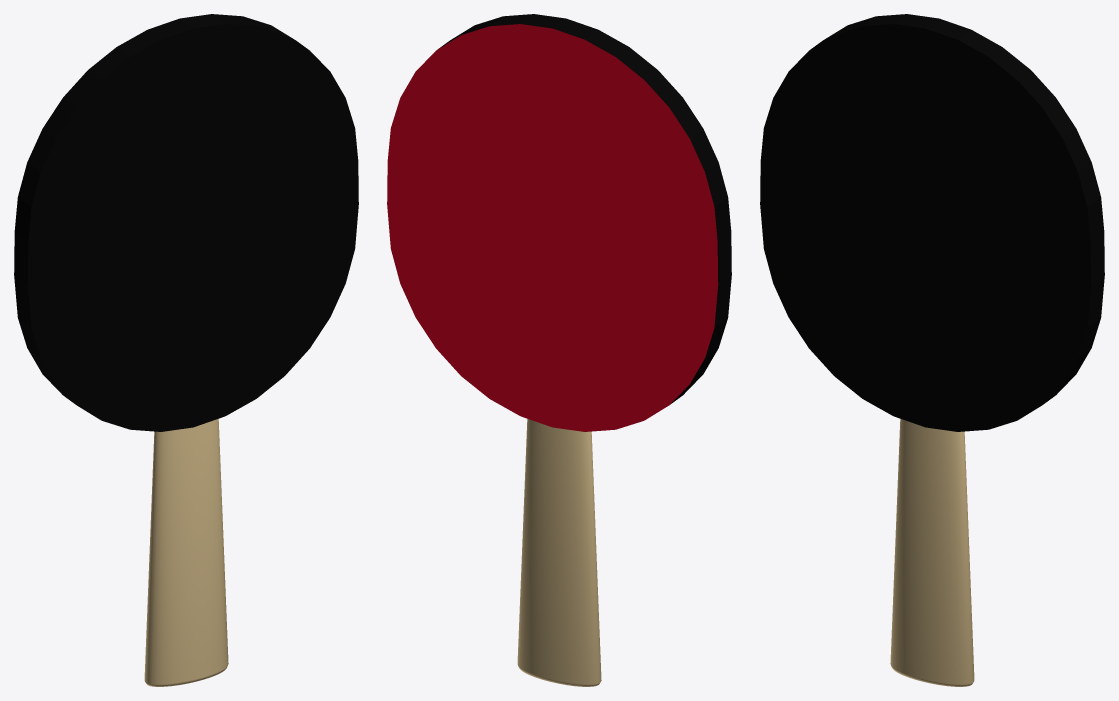
Rendered from raquette_pingpong.fbx.
3 renders of one model, left to right at view 1: azimuth 30°, elevation 25°; view 2: azimuth 150°, elevation 25°; view 3: azimuth 330°, elevation 25°, orthographic.
Visible parts, largest first — view 1: Raquette_PingPong; view 2: Raquette_PingPong; view 3: Raquette_PingPong.
Part boxes in pixels (<box>): Raquette_PingPong: <box>14,14,358,686</box>; Raquette_PingPong: <box>387,14,731,686</box>; Raquette_PingPong: <box>760,14,1104,686</box>.
Size of the model in its own units: 52.76 by 99.26 by 5.14.
